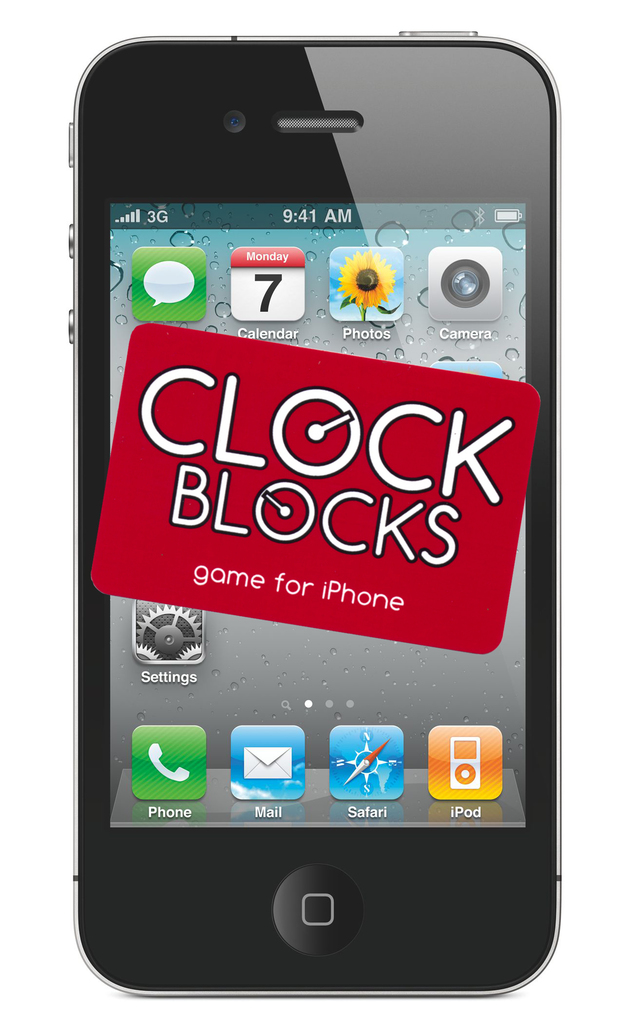mobile phone: (63, 27, 564, 998)
